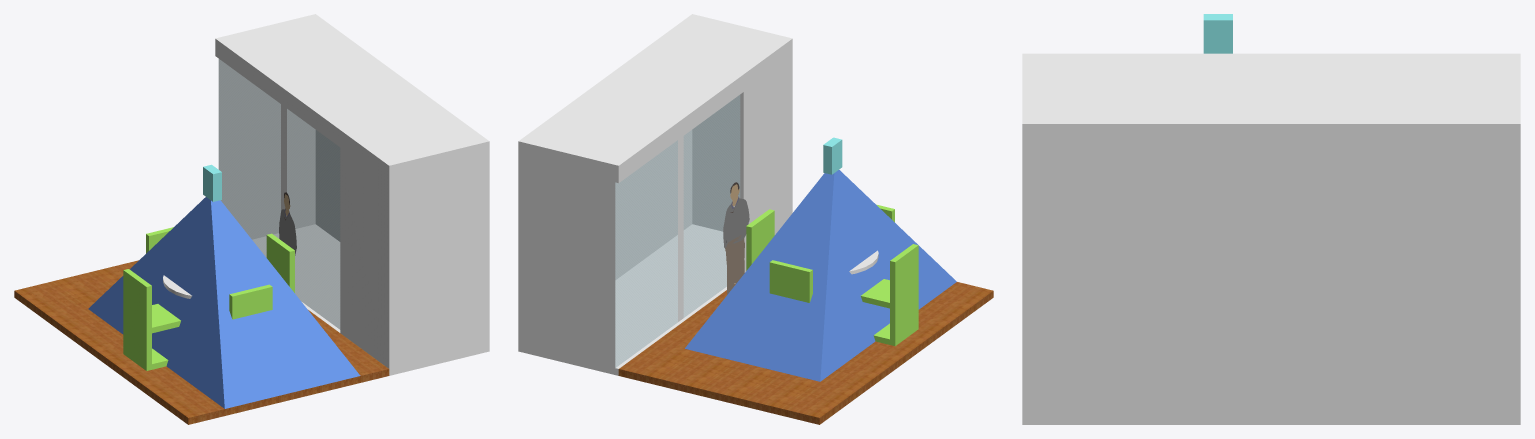
Rendered from set3.obj.
The picture shows the model from 3 angles, left to right: view 1: azimuth 30°, elevation 25°; view 2: azimuth 150°, elevation 25°; view 3: azimuth 270°, elevation 25°; orthographic projection. The views are drawn at different scales.
Parts seen in each view (by area): view 1: Mesh14 Componente_15_1 Componente_38_1 Model, Mesh16 Component_67_1 Component_66_1 Component_65_1 Componente_3, Mesh1 Componente_10_1 Componente_38_1 Model, Mesh27 Componente_17_4 Componente_38_1 Model, Mesh3 Componente_17_1 Componente_38_1 Model, Mesh11 Componente_17_2 Componente_38_1 Model, Mesh30 Derrick1 Componente_38_1 Model, Mesh18 Component_6_1 Component_66_1 Component_65_1 Componente_38; view 2: Mesh14 Componente_15_1 Componente_38_1 Model, Mesh16 Component_67_1 Component_66_1 Component_65_1 Componente_3, Mesh1 Componente_10_1 Componente_38_1 Model, Mesh27 Componente_17_4 Componente_38_1 Model, Mesh30 Derrick1 Componente_38_1 Model, Mesh24 Componente_17_3 Componente_38_1 Model, Mesh11 Componente_17_2 Componente_38_1 Model, Mesh18 Component_6_1 Component_66_1 Component_65_1 Componente_38; view 3: Mesh14 Componente_15_1 Componente_38_1 Model, Mesh18 Component_6_1 Component_66_1 Component_65_1 Componente_38.
Part boxes in pixels (<box>): Mesh14 Componente_15_1 Componente_38_1 Model: <box>215,14,489,375</box>; Mesh16 Component_67_1 Component_66_1 Component_65_1 Componente_3: <box>88,197,360,408</box>; Mesh1 Componente_10_1 Componente_38_1 Model: <box>14,260,389,424</box>; Mesh27 Componente_17_4 Componente_38_1 Model: <box>123,269,180,370</box>; Mesh3 Componente_17_1 Componente_38_1 Model: <box>229,284,272,319</box>; Mesh11 Componente_17_2 Componente_38_1 Model: <box>266,233,294,292</box>; Mesh30 Derrick1 Componente_38_1 Model: <box>279,192,296,255</box>; Mesh18 Component_6_1 Component_66_1 Component_65_1 Componente_38: <box>203,164,221,201</box>; Mesh14 Componente_15_1 Componente_38_1 Model: <box>518,14,792,375</box>; Mesh16 Component_67_1 Component_66_1 Component_65_1 Componente_3: <box>685,170,956,381</box>; Mesh1 Componente_10_1 Componente_38_1 Model: <box>618,282,993,424</box>; Mesh27 Componente_17_4 Componente_38_1 Model: <box>861,244,918,346</box>; Mesh30 Derrick1 Componente_38_1 Model: <box>723,182,749,294</box>; Mesh24 Componente_17_3 Componente_38_1 Model: <box>769,260,812,302</box>; Mesh11 Componente_17_2 Componente_38_1 Model: <box>746,209,774,270</box>; Mesh18 Component_6_1 Component_66_1 Component_65_1 Componente_38: <box>823,137,842,174</box>; Mesh14 Componente_15_1 Componente_38_1 Model: <box>1022,53,1520,424</box>; Mesh18 Component_6_1 Component_66_1 Component_65_1 Componente_38: <box>1203,14,1232,53</box>.
Bounding box in the file's own units: 4500 × 3000 × 4500.
